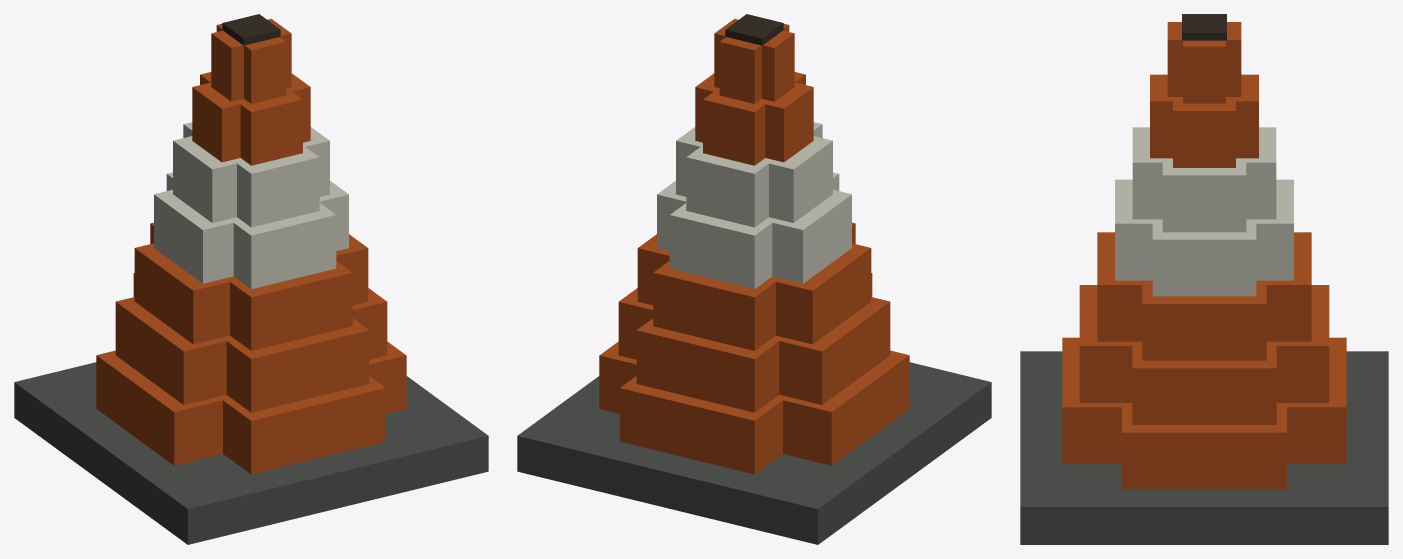
The model's file is CMU3DWarningCone.glb.
3 views of the same model, side by side, from view 1: azimuth 30°, elevation 25°; view 2: azimuth 150°, elevation 25°; view 3: azimuth 270°, elevation 25° (orthographic). The views are drawn at different scales.
Visible parts, largest first — view 1: tapered cone orange body (×14), cone rubber foot, tapered cone reflective band (×6), open cone tip; view 2: tapered cone orange body (×14), cone rubber foot, tapered cone reflective band (×6), open cone tip; view 3: tapered cone orange body (×10), cone rubber foot, tapered cone reflective band (×4), open cone tip.
Boxes of the visible parts, x1,y1,x2,y2 form: tapered cone orange body (×14): (96,23,406,474); cone rubber foot: (14,362,488,544); tapered cone reflective band (×6): (154,122,348,289); open cone tip: (222,14,280,45); tapered cone orange body (×14): (599,23,909,474); cone rubber foot: (517,362,991,544); tapered cone reflective band (×6): (657,122,851,289); open cone tip: (725,14,783,45); tapered cone orange body (×10): (1062,22,1346,489); cone rubber foot: (1020,351,1388,544); tapered cone reflective band (×4): (1115,127,1293,296); open cone tip: (1182,14,1226,40).
Size of the model in its own units: 0.44 by 0.585 by 0.44.
